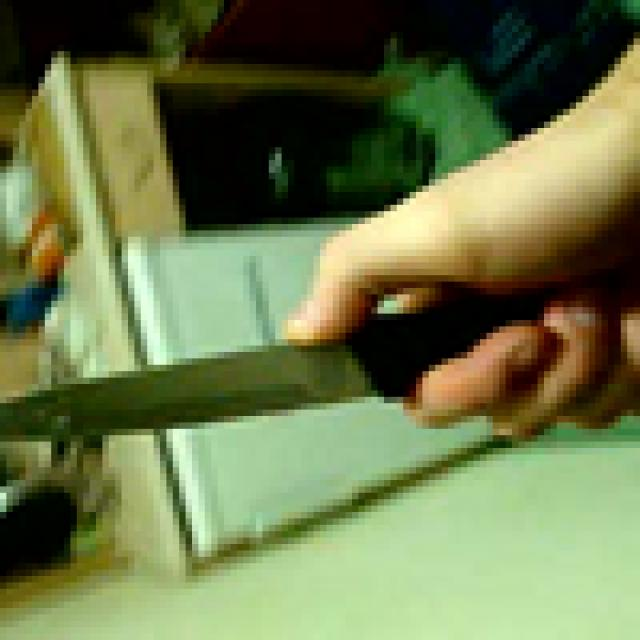Weapons: (0, 279, 562, 463)
